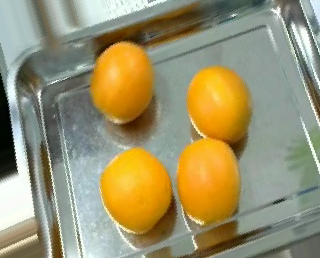Orange: (98, 148, 173, 234), (176, 138, 242, 226), (89, 39, 154, 123), (186, 66, 252, 144)
